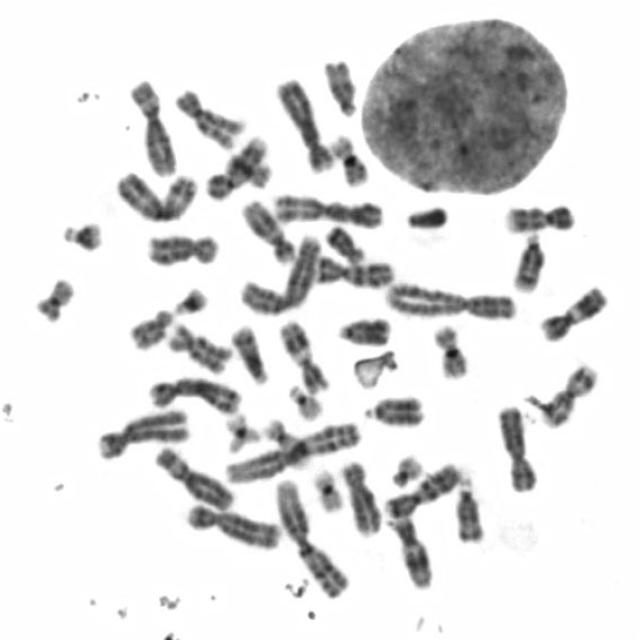A1: (271, 475, 351, 599), (221, 417, 362, 485)
A2: (235, 230, 323, 317), (380, 276, 518, 322)
A3: (111, 167, 199, 224), (269, 189, 384, 230)
B4: (273, 74, 334, 175), (93, 403, 192, 461)
B5: (182, 499, 284, 552), (144, 371, 244, 416)
C10: (172, 85, 243, 149), (165, 320, 231, 376)
C11: (536, 282, 610, 344), (276, 317, 330, 396)
C12: (238, 195, 296, 265), (385, 511, 437, 582)
C6: (150, 442, 236, 512), (124, 76, 178, 178)
C7: (380, 458, 465, 520), (310, 251, 396, 290)
C8: (336, 456, 384, 536), (142, 229, 222, 268)
C9: (202, 132, 270, 203), (500, 200, 576, 233)
D13: (360, 391, 426, 430), (334, 314, 391, 348)
D14: (228, 322, 270, 386), (508, 229, 547, 294)
D15: (320, 55, 358, 119), (452, 474, 485, 546)
E16: (327, 130, 371, 188), (429, 320, 471, 380)
E17: (537, 363, 597, 434), (260, 414, 309, 471)
E18: (125, 304, 173, 351), (321, 221, 366, 265)
F19: (311, 464, 345, 513), (222, 409, 262, 448)
F20: (31, 274, 75, 324), (223, 153, 272, 189)
G21: (58, 217, 105, 254), (169, 282, 211, 317)
G22: (284, 380, 325, 423), (386, 448, 424, 489)
X: (495, 401, 538, 494)
Y: (402, 203, 449, 230)
